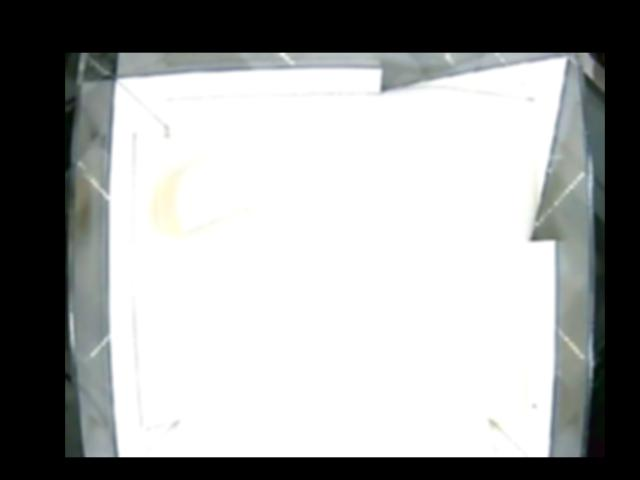Mooli: (154, 157, 267, 233)
